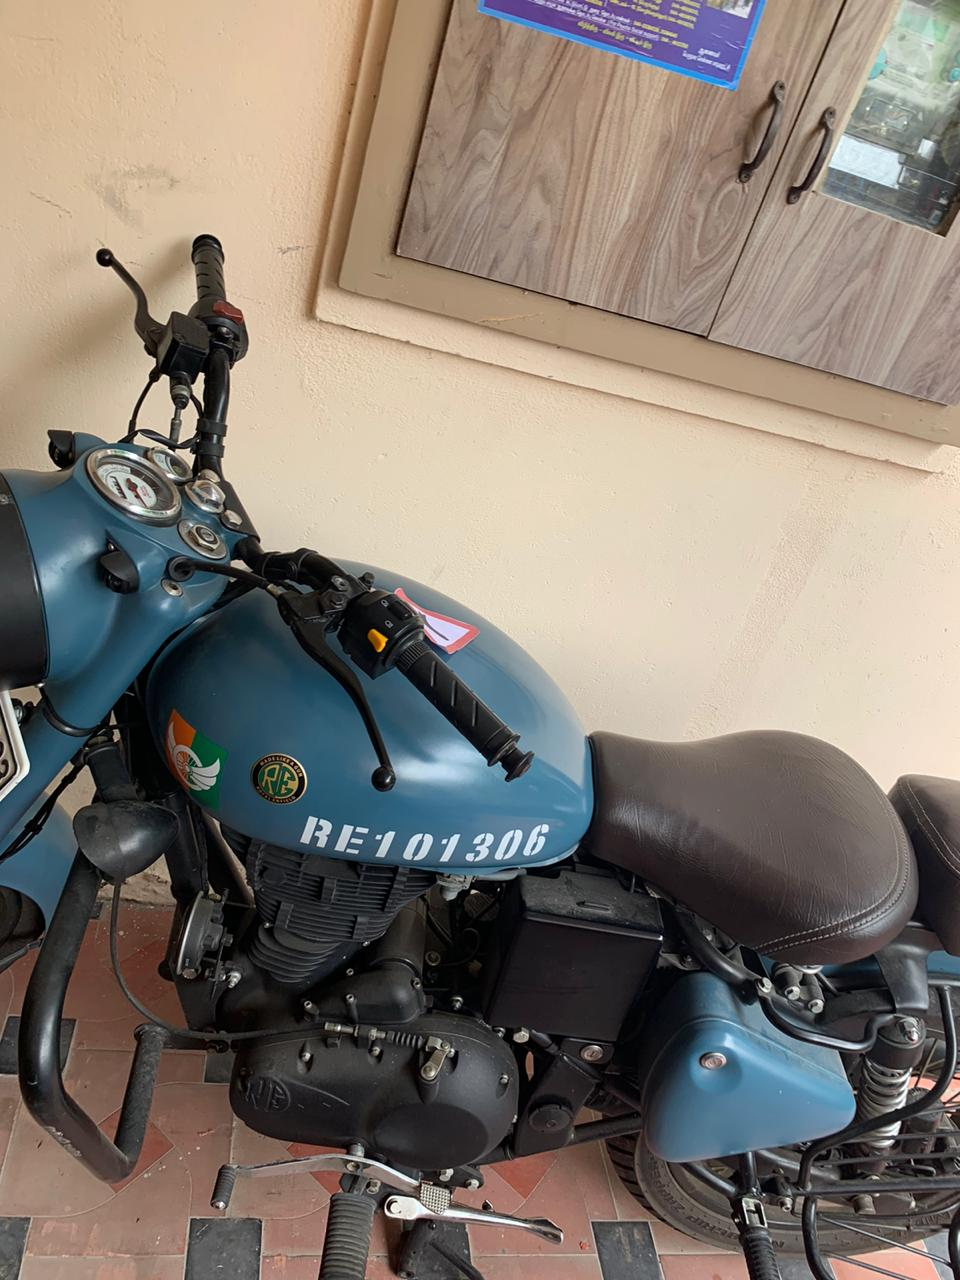LEFT CURVE: (348, 556, 509, 676)
